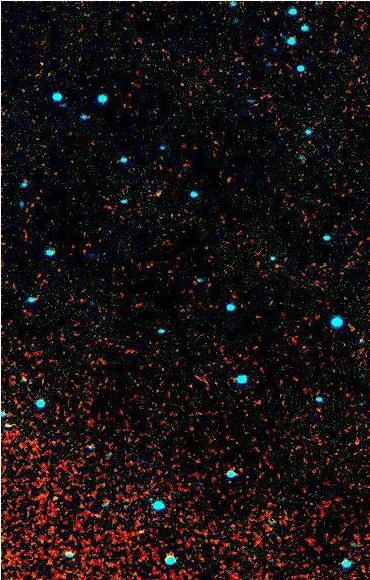star: (143, 179, 173, 209)
